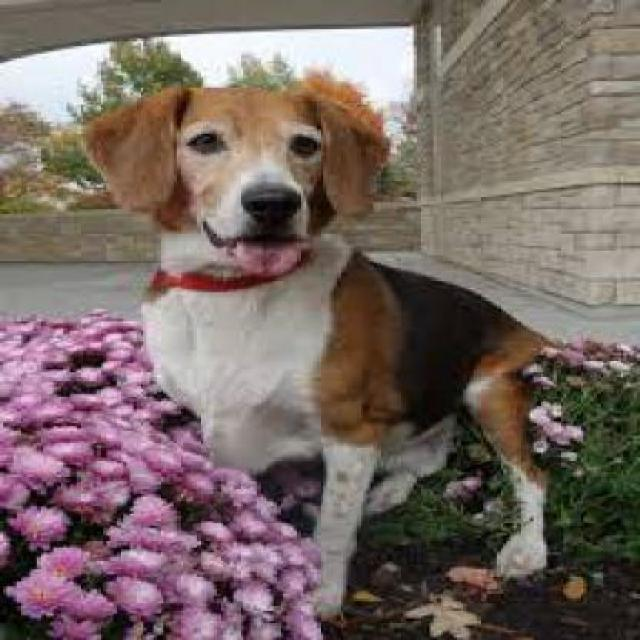Dog: (78, 80, 560, 618)
